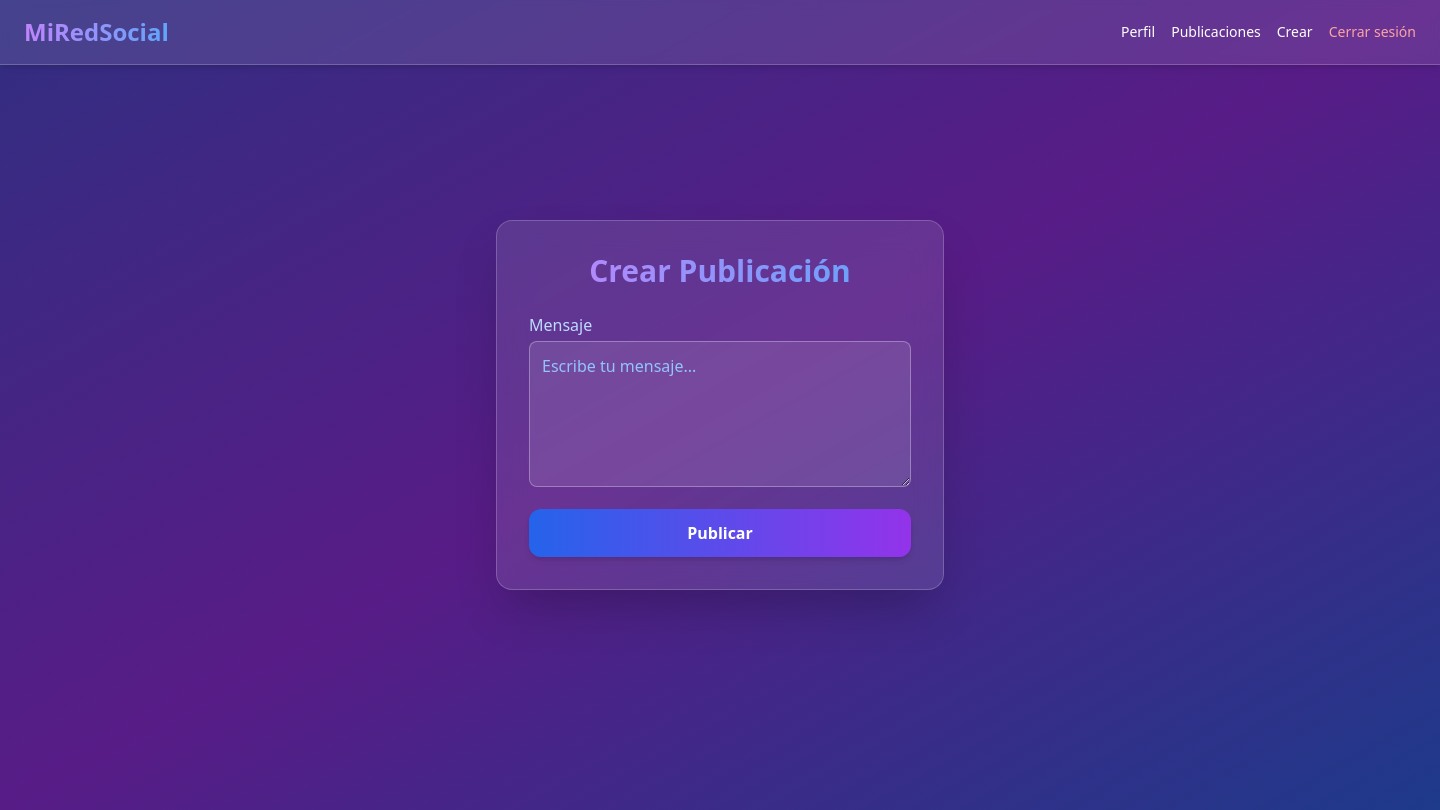
CreatePost › muestra error si el mensaje tiene menos de 5 caracteres
Type "hey" into the text box labelled "Mensaje" at (720,414), box [529, 341, 911, 487]
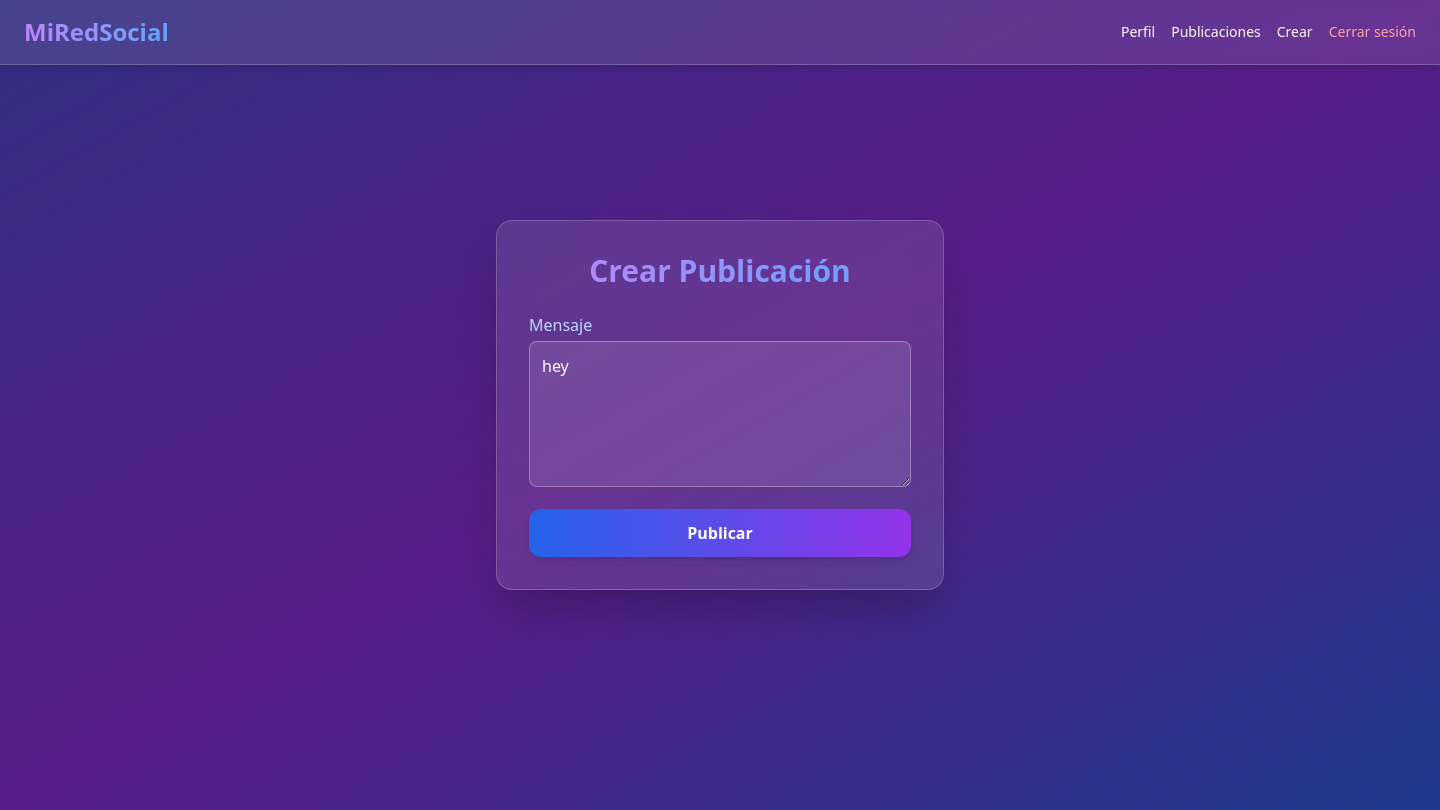
Click the button "Publicar" at (720,533), box [529, 509, 911, 557]
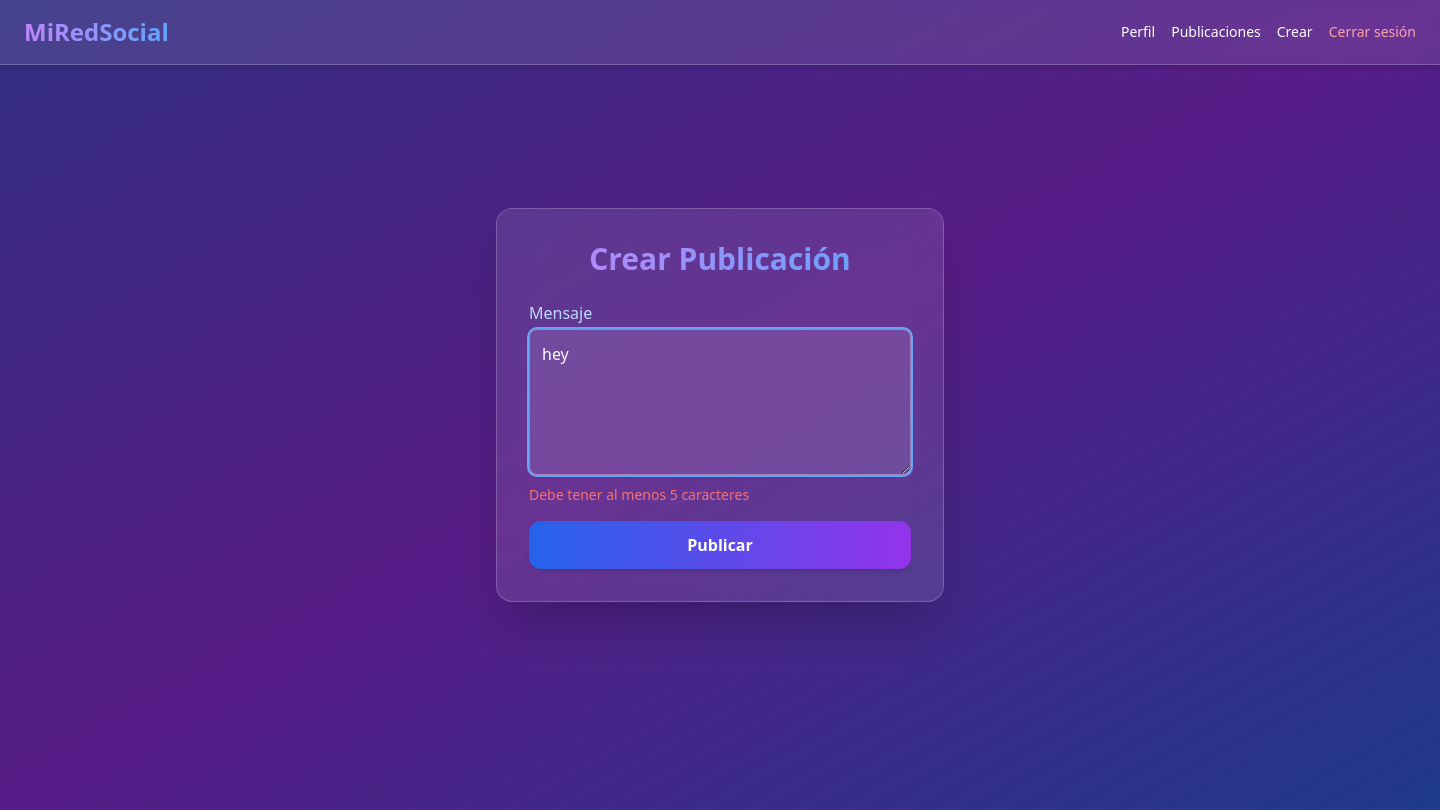
Now the text "Debe tener al menos 5 caracteres" is shown, box [529, 485, 749, 504]
